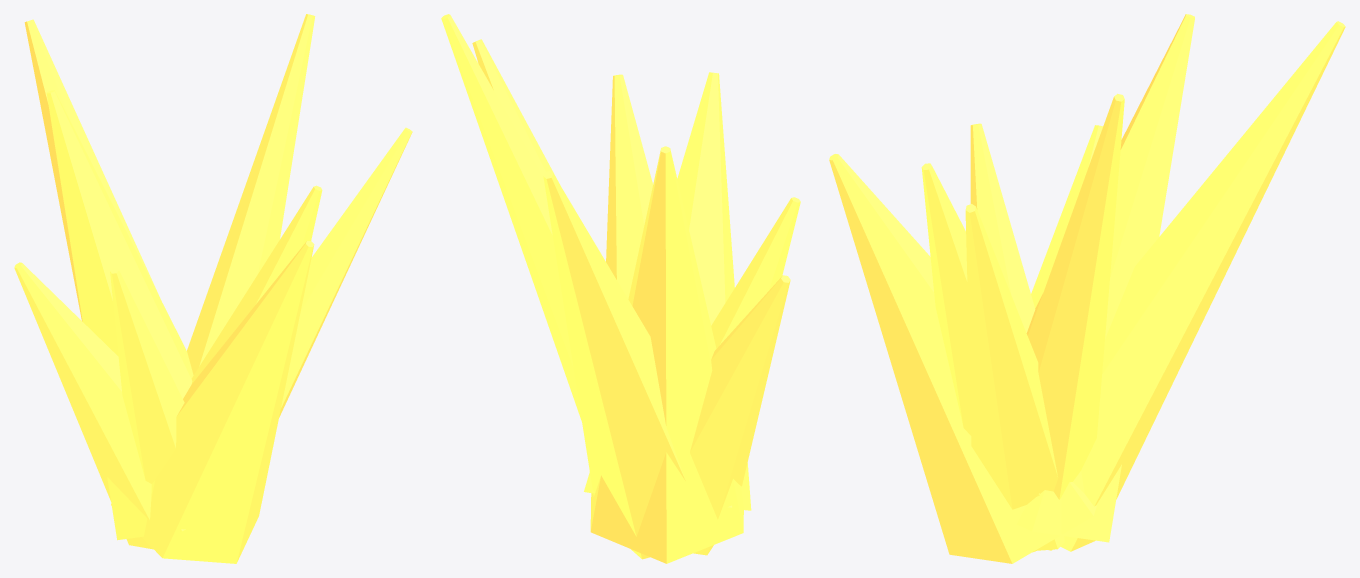
The model's file is VFX_CrystalShards_Desert_v01.glb.
The picture shows the model from 3 angles, left to right: view 1: azimuth 30°, elevation 25°; view 2: azimuth 150°, elevation 25°; view 3: azimuth 270°, elevation 25°; orthographic projection. The views are drawn at different scales.
Visible parts, largest first — view 1: MESH_CrystalShard_06, MESH_CrystalShard_03, MESH_CrystalShard_04, MESH_CrystalShard_05, MESH_CrystalShard_01, MESH_CrystalShard_07, MESH_CrystalShard_08, MESH_CrystalShard_02; view 2: MESH_CrystalShard_03, MESH_CrystalShard_08, MESH_CrystalShard_05, MESH_CrystalShard_04, MESH_CrystalShard_06, MESH_CrystalShard_02, MESH_CrystalShard_01, MESH_CrystalShard_07; view 3: MESH_CrystalShard_08, MESH_CrystalShard_06, MESH_CrystalShard_04, MESH_CrystalShard_07, MESH_CrystalShard_03, MESH_CrystalShard_02, MESH_CrystalShard_01, MESH_CrystalShard_05.
Part boxes in pixels (x1,y1,x2,y2): MESH_CrystalShard_06: [111, 241, 314, 563]; MESH_CrystalShard_03: [46, 90, 193, 540]; MESH_CrystalShard_04: [187, 14, 315, 374]; MESH_CrystalShard_05: [14, 262, 153, 549]; MESH_CrystalShard_01: [110, 267, 184, 483]; MESH_CrystalShard_07: [279, 127, 412, 417]; MESH_CrystalShard_08: [24, 19, 161, 321]; MESH_CrystalShard_02: [191, 185, 322, 383]; MESH_CrystalShard_03: [590, 146, 743, 563]; MESH_CrystalShard_08: [543, 171, 685, 559]; MESH_CrystalShard_05: [690, 275, 790, 555]; MESH_CrystalShard_04: [441, 14, 581, 421]; MESH_CrystalShard_06: [584, 72, 751, 510]; MESH_CrystalShard_02: [606, 74, 652, 298]; MESH_CrystalShard_01: [711, 197, 800, 348]; MESH_CrystalShard_07: [472, 39, 559, 183]; MESH_CrystalShard_08: [1060, 21, 1345, 551]; MESH_CrystalShard_06: [829, 154, 1096, 563]; MESH_CrystalShard_04: [1028, 93, 1124, 550]; MESH_CrystalShard_07: [965, 204, 1057, 552]; MESH_CrystalShard_03: [1016, 14, 1194, 542]; MESH_CrystalShard_02: [921, 163, 1064, 550]; MESH_CrystalShard_01: [970, 123, 1035, 332]; MESH_CrystalShard_05: [1031, 125, 1102, 308].
Bounding box in the file's own units: 0.1676 × 0.2161 × 0.1864.
